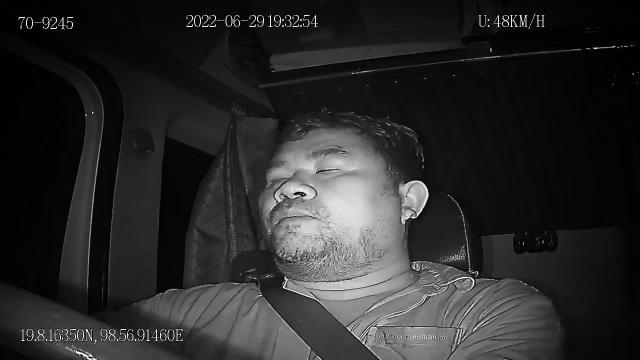Seatbelt: (256, 274, 382, 360)
